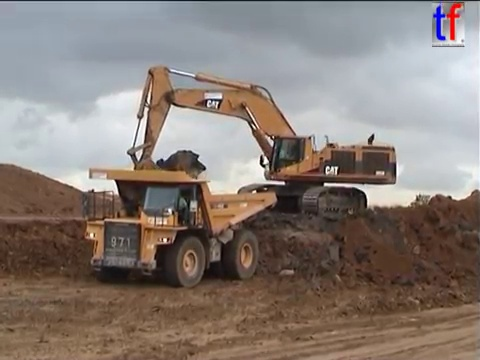excavator: (124, 63, 400, 222)
truck: (80, 165, 279, 289), (408, 192, 432, 211)
